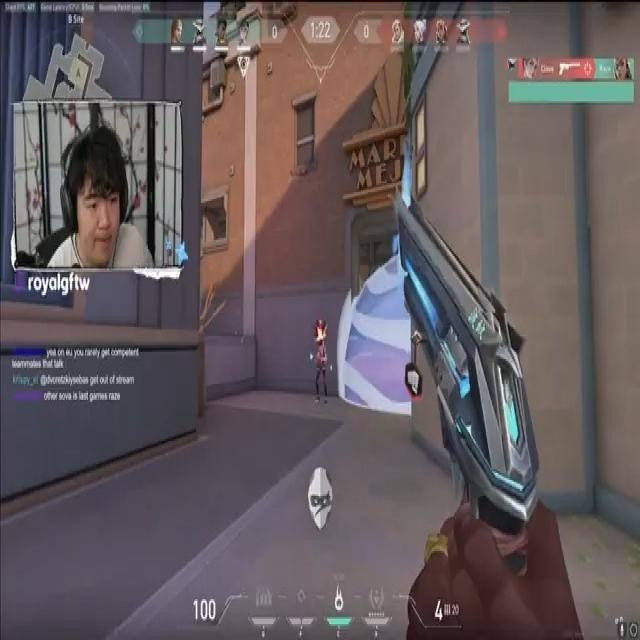enemy: (312, 335, 333, 410)
